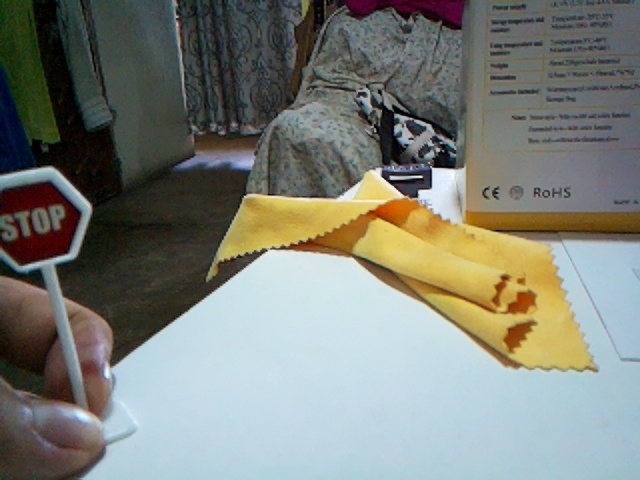stop_sign: (0, 167, 91, 271)
